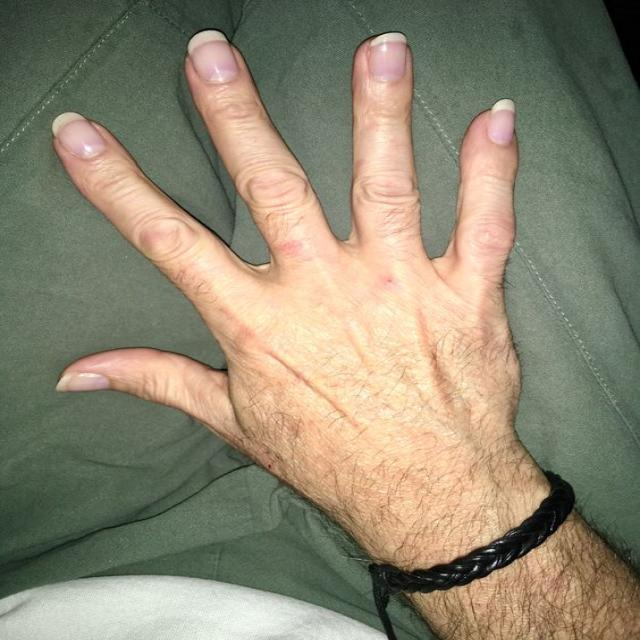Fingernail: (187, 30, 239, 84), (52, 112, 107, 159), (368, 32, 408, 82), (487, 99, 516, 146)
